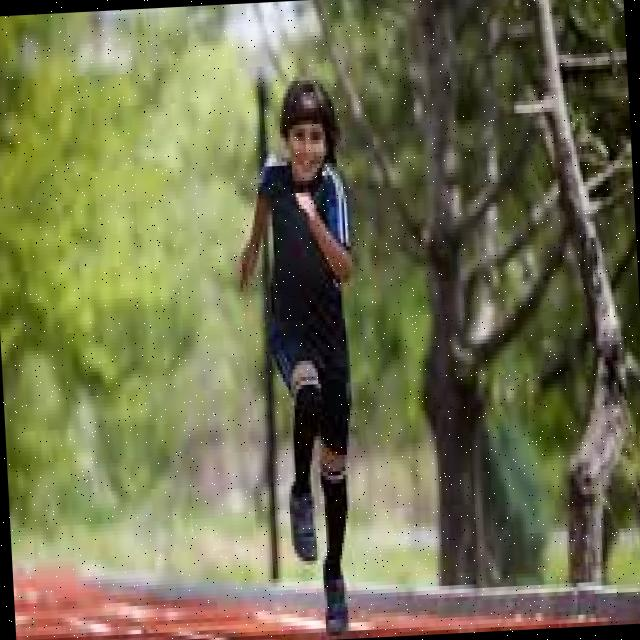Person: (230, 78, 372, 638)
